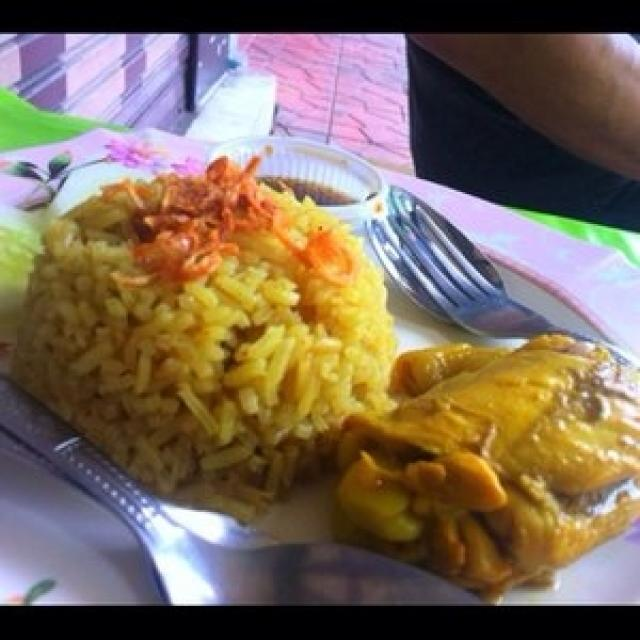米饭主食: (9, 75, 634, 591)
